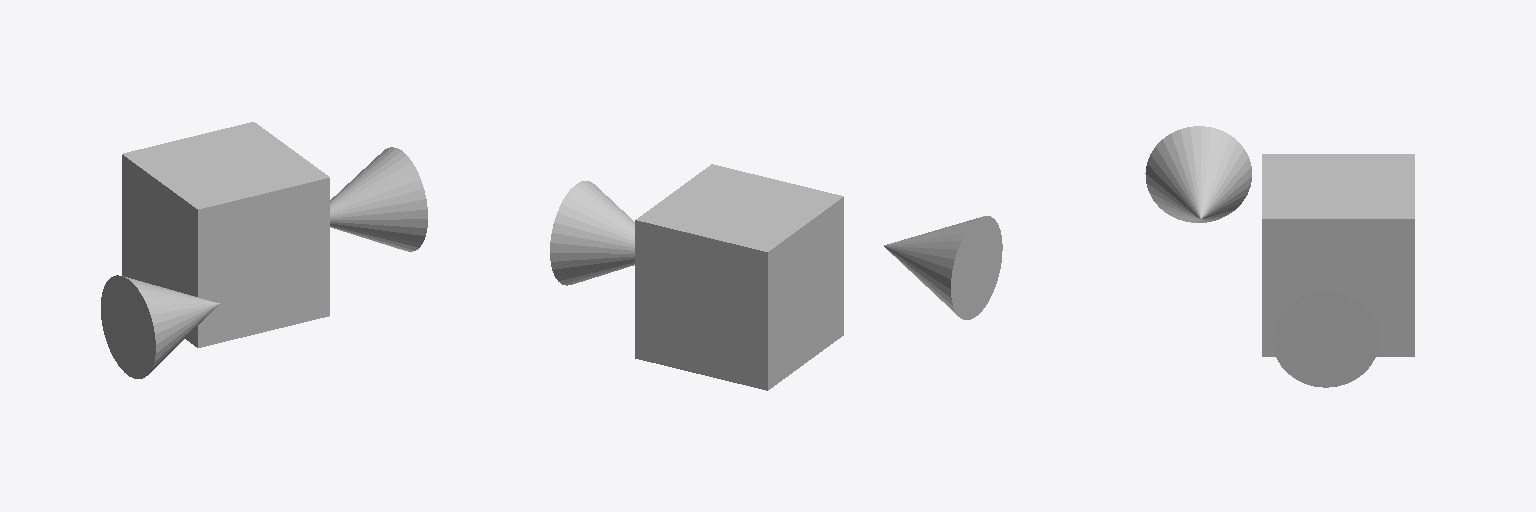
File: dec-paddle-width.obj
3 views of the same model, side by side, from view 1: azimuth 30°, elevation 25°; view 2: azimuth 150°, elevation 25°; view 3: azimuth 270°, elevation 25° (orthographic).
Bounding box in the file's own units: 1.28 × 0.5 × 0.8801.